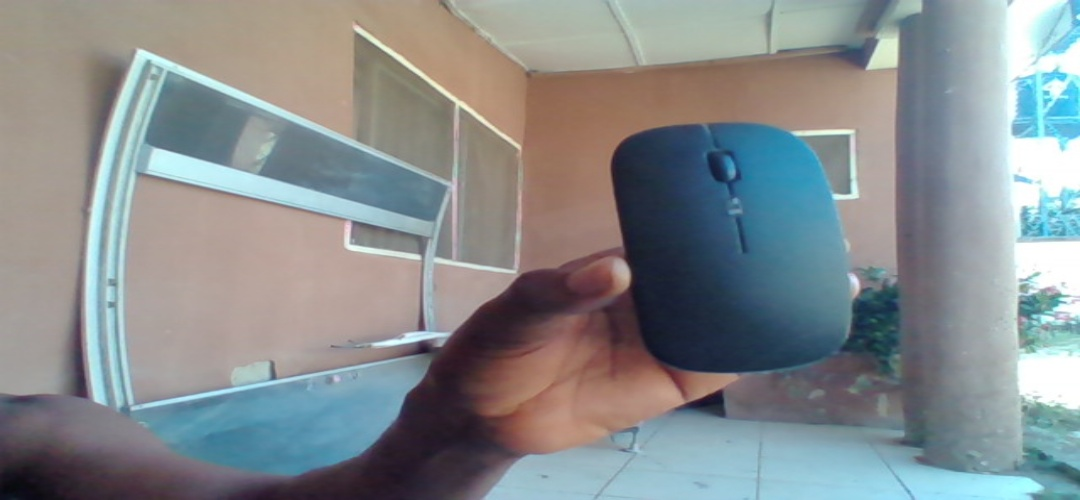wireless_mouse: (604, 120, 858, 378)
